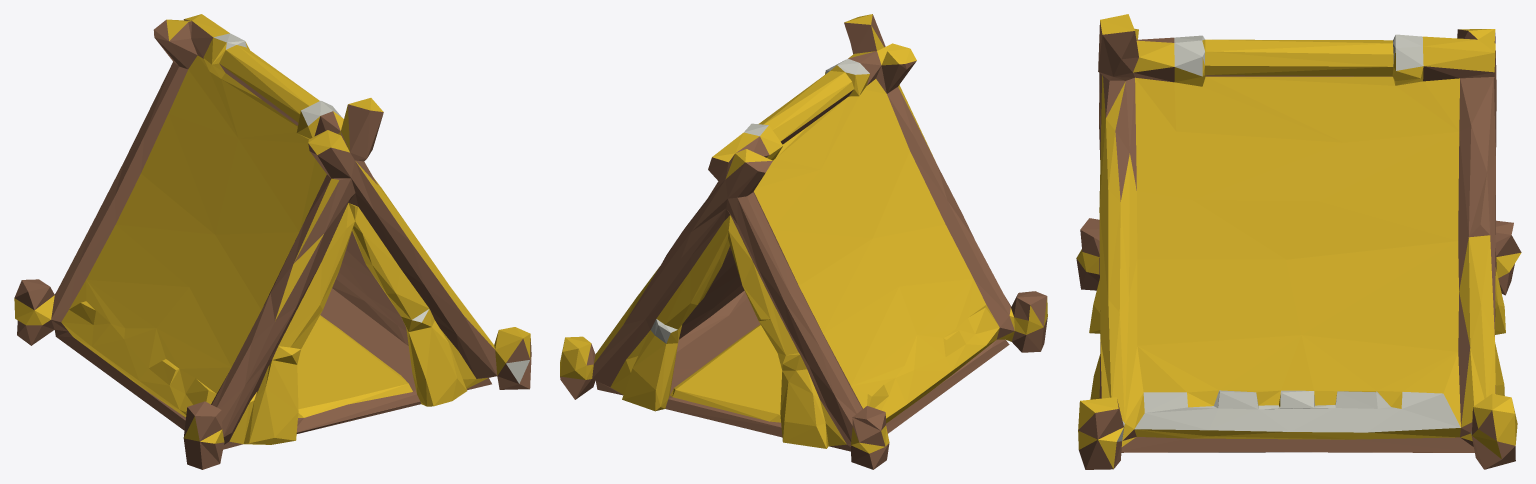
File: prop_shelter.glb
The picture shows the model from 3 angles, left to right: view 1: azimuth 30°, elevation 25°; view 2: azimuth 150°, elevation 25°; view 3: azimuth 270°, elevation 25°; orthographic projection. The views are drawn at different scales.
Visible parts, largest first — view 1: PropShelterBody; view 2: PropShelterBody; view 3: PropShelterBody.
Part boxes in pixels (x1,y1,x2,y2): PropShelterBody: [14, 14, 531, 469]; PropShelterBody: [560, 14, 1047, 469]; PropShelterBody: [1076, 14, 1521, 469].
Bounding box in the file's own units: 1 × 0.8629 × 0.9578.
